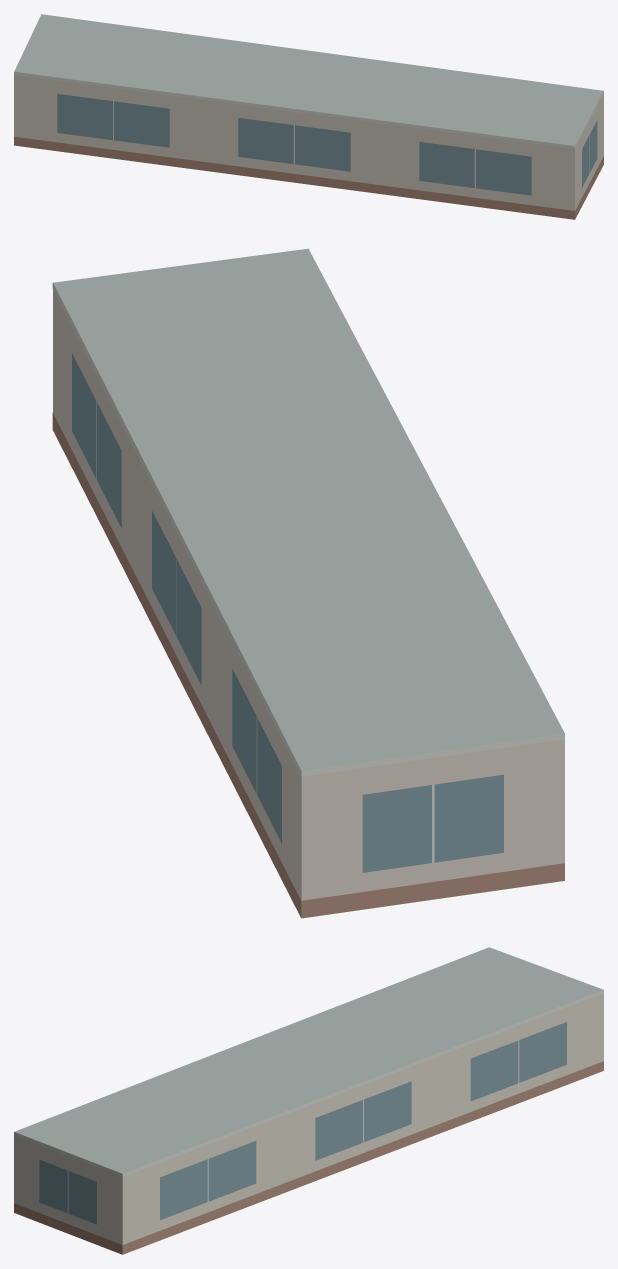
File: survey-upis-32663313.glb
The picture shows the model from 3 angles, top to bottom: view 1: azimuth 30°, elevation 25°; view 2: azimuth 150°, elevation 25°; view 3: azimuth 270°, elevation 25°; orthographic projection. The views are drawn at different scales.
Parts seen in each view (by area): view 1: survey-upis-32663313.tmp; view 2: survey-upis-32663313.tmp; view 3: survey-upis-32663313.tmp.
Boxes of the visible parts, bbox=[...] form: survey-upis-32663313.tmp: bbox=[14, 14, 603, 219]; survey-upis-32663313.tmp: bbox=[52, 248, 564, 918]; survey-upis-32663313.tmp: bbox=[14, 947, 603, 1254].
Bounding box in the file's own units: 18.32 × 3.05 × 20.15.
